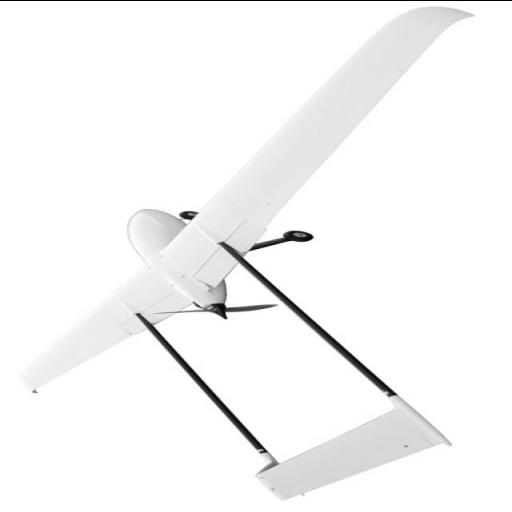uav: (14, 4, 473, 502)
